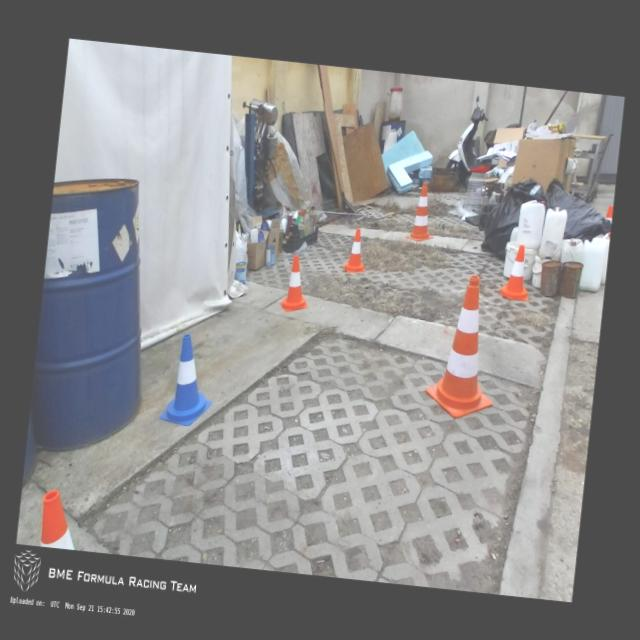blue_cone: (158, 332, 218, 428)
large_orange_cone: (422, 271, 504, 420), (405, 181, 438, 241)
orange_cone: (38, 489, 81, 550), (278, 254, 313, 314), (500, 242, 532, 300), (342, 228, 368, 274), (604, 205, 612, 224)
